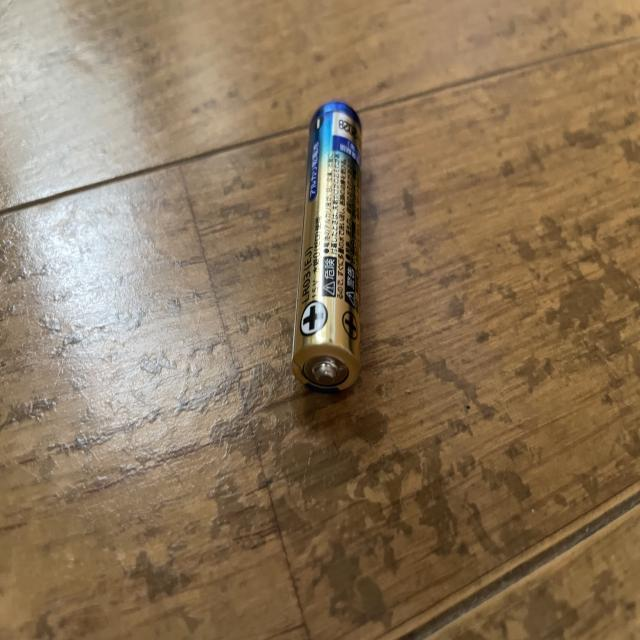Hazard: (288, 98, 366, 396)
